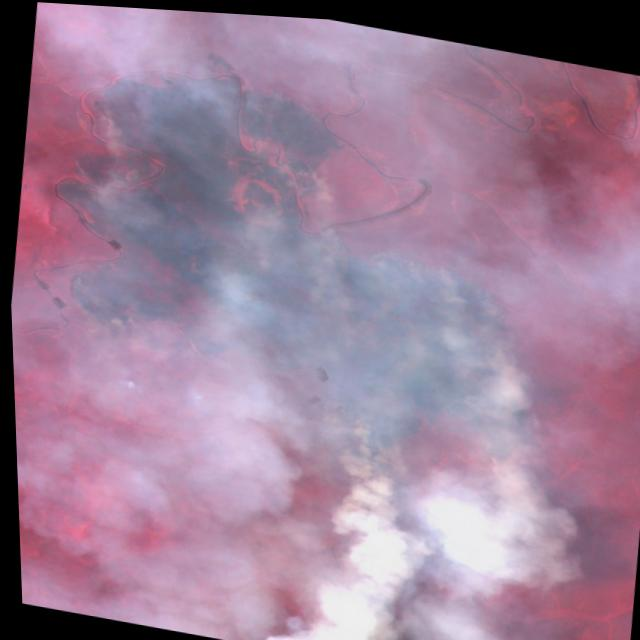fire: (32, 42, 579, 485)
